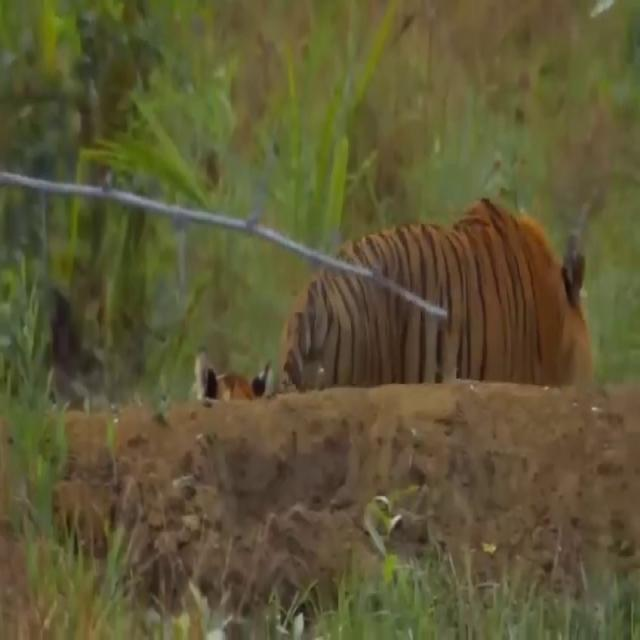tiger: (197, 195, 592, 407)
